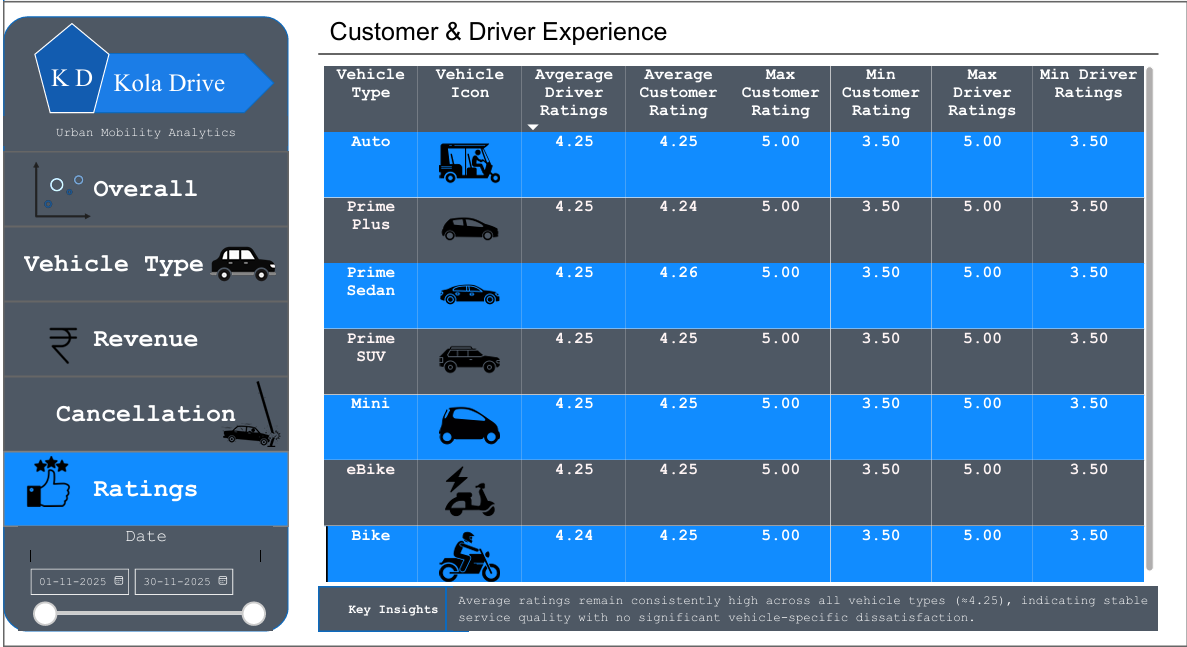

This screenshot's page, from the dashboard's own definition file:
{"tool":"powerbi","page":{"name":"Ratings","canvas":[1280,720],"ordinal":5},"visuals":[{"type":"shape","box":[0,0,1280,720],"z":0},{"type":"shape","box":[0,16,1264,688],"z":1000},{"type":"shape","box":[0,32,304,656],"z":2000},{"type":"shape","box":[96.7,71.4,192,64],"z":3000},{"type":"shape","box":[32.7,39.4,80,96],"z":4000},{"type":"shape","box":[0,176,304,80],"z":5000},{"type":"shape","box":[0.2,138.9,304,32],"z":6000},{"type":"shape","box":[0,256,304,80],"z":7000},{"type":"shape","box":[0,336,304,80],"z":8000},{"type":"shape","box":[0,416,304,80],"z":9000},{"type":"shape","box":[0,496,304,80],"z":10000},{"type":"image","box":[0,496,96,64],"z":11000},{"type":"image","box":[224,416,80,80],"z":12000},{"type":"image","box":[32,352,64,64],"z":13000},{"type":"image","box":[208,256,96,80],"z":14000},{"type":"image","box":[16,176,96,80],"z":15000},{"type":"shape","box":[336,64,896,16],"z":16000},{"type":"shape","box":[336,32,896,32],"z":17000},{"type":"slicer","title":"Date","fields":{"Values":["ola_bookings.Date"]},"box":[16,576,272,112],"z":18000},{"type":"tableEx","fields":{"Values":["Kola_bookings.Vehicle_Type","Kola_bookings.Vehicle_Icon","Avg(Kola_bookings.Driver_Ratings)","Avg(Kola_bookings.Customer_Rating)","Max(Kola_bookings.Customer_Rating)","Min(Kola_bookings.Customer_Rating)","Max(Kola_bookings.Driver_Ratings)","Min(Kola_bookings.Driver_Ratings)","select"]},"box":[336,80,896,624],"z":20001}]}

Visuals, with their boxes on the page's 1280x720 design canvas (x1, y1, x2, y2). These are canvas units, not pixel positions in the 1187x647 screenshot, which may show the page scaled, cropped or inside an application window:
shape: pyautogui.locateOnScreen(0, 0, 1280, 720)
shape: pyautogui.locateOnScreen(0, 16, 1264, 704)
shape: pyautogui.locateOnScreen(0, 32, 304, 688)
shape: pyautogui.locateOnScreen(97, 71, 289, 135)
shape: pyautogui.locateOnScreen(33, 39, 113, 135)
shape: pyautogui.locateOnScreen(0, 176, 304, 256)
shape: pyautogui.locateOnScreen(0, 139, 304, 171)
shape: pyautogui.locateOnScreen(0, 256, 304, 336)
shape: pyautogui.locateOnScreen(0, 336, 304, 416)
shape: pyautogui.locateOnScreen(0, 416, 304, 496)
shape: pyautogui.locateOnScreen(0, 496, 304, 576)
image: pyautogui.locateOnScreen(0, 496, 96, 560)
image: pyautogui.locateOnScreen(224, 416, 304, 496)
image: pyautogui.locateOnScreen(32, 352, 96, 416)
image: pyautogui.locateOnScreen(208, 256, 304, 336)
image: pyautogui.locateOnScreen(16, 176, 112, 256)
shape: pyautogui.locateOnScreen(336, 64, 1232, 80)
shape: pyautogui.locateOnScreen(336, 32, 1232, 64)
"Date" slicer: pyautogui.locateOnScreen(16, 576, 288, 688)
tableEx - Kola_bookings.Vehicle_Type x Kola_bookings.Vehicle_Icon: pyautogui.locateOnScreen(336, 80, 1232, 704)
